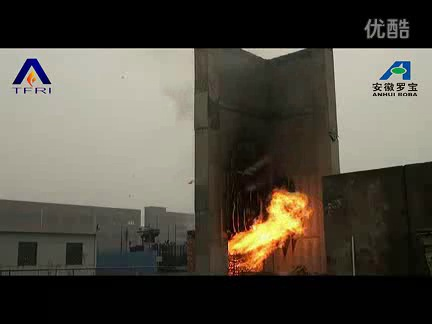fire: (226, 183, 313, 275)
